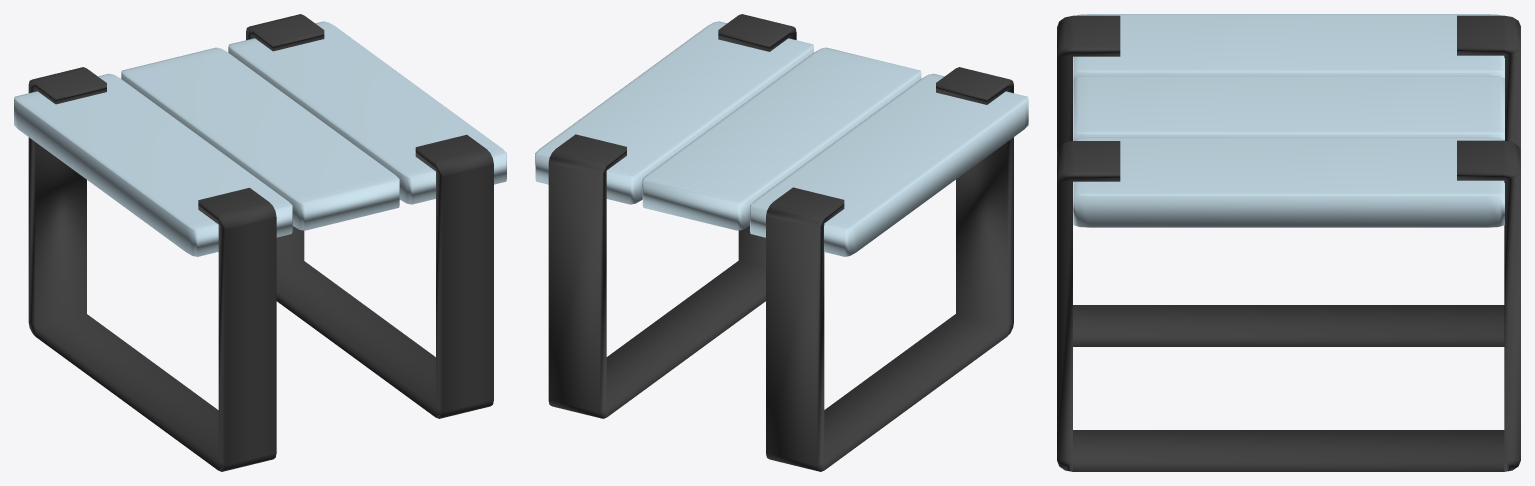
The model's file is Mesa.fbx.
The picture shows the model from 3 angles, left to right: view 1: azimuth 30°, elevation 25°; view 2: azimuth 150°, elevation 25°; view 3: azimuth 270°, elevation 25°; orthographic projection. The views are drawn at different scales.
Parts seen in each view (by area): view 1: Cube.002, Cube.003, Cube.006; view 2: Cube.002, Cube.003, Cube.006; view 3: Cube.002, Cube.006, Cube.003.
Part boxes in pixels (x1=…): Cube.002: x1=14, y1=21, x2=506, y2=256; Cube.003: x1=28, y1=67, x2=276, y2=471; Cube.006: x1=246, y1=14, x2=493, y2=418; Cube.002: x1=535, y1=21, x2=1028, y2=256; Cube.003: x1=766, y1=67, x2=1013, y2=471; Cube.006: x1=548, y1=14, x2=796, y2=418; Cube.002: x1=1073, y1=14, x2=1504, y2=227; Cube.006: x1=1057, y1=140, x2=1520, y2=471; Cube.003: x1=1057, y1=15, x2=1520, y2=346.
Bounding box in the file's own units: 200 × 154 × 215.
